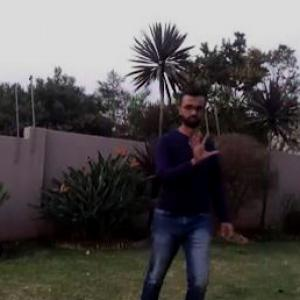follow_hand: (177, 123, 223, 169)
